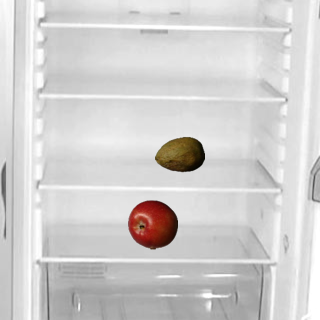Apple Braeburn: (127, 199, 177, 249)
Papaya: (154, 129, 204, 179)
